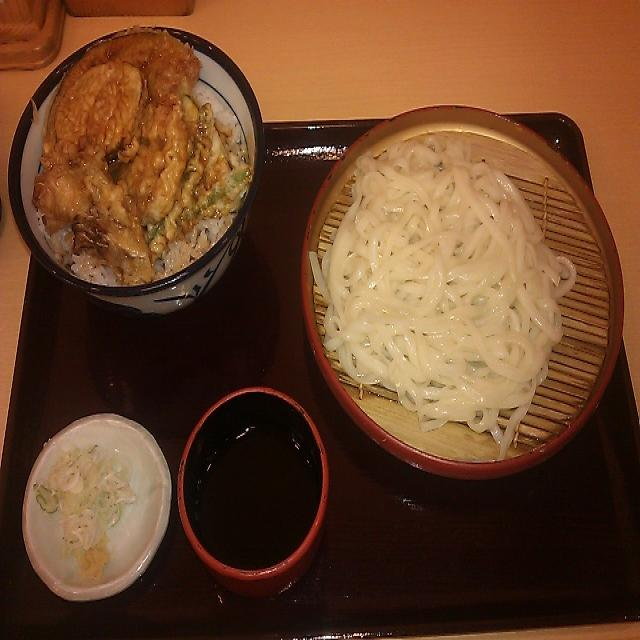熟制海鲜: (5, 32, 262, 321)
